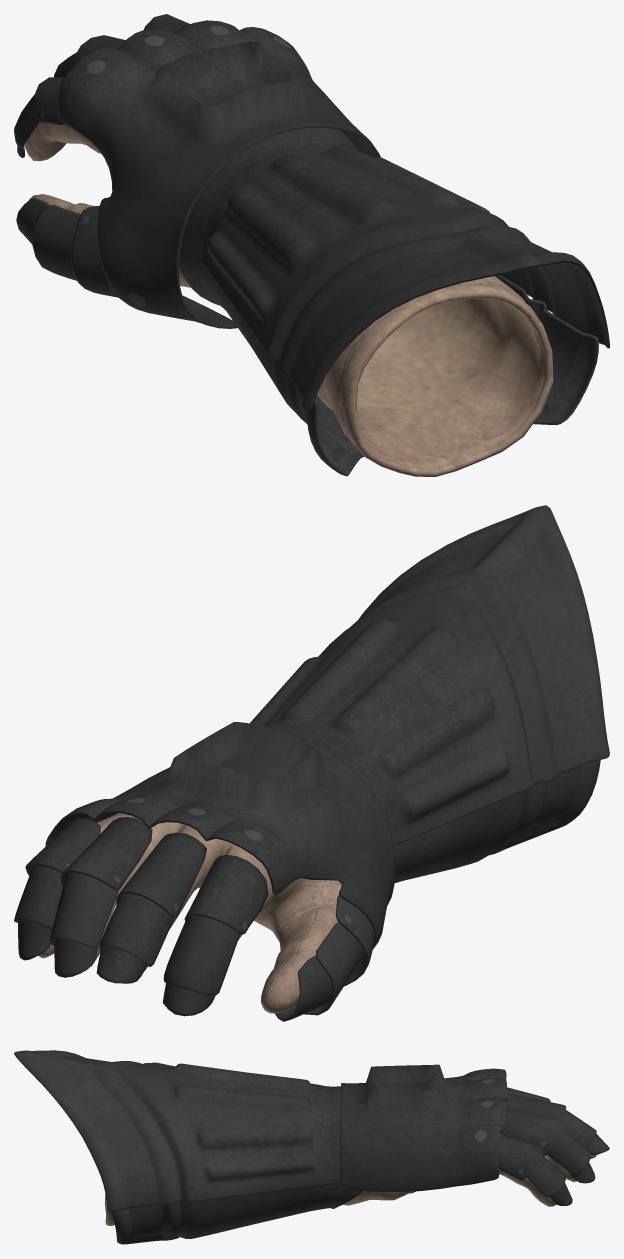
File: Gauntlet_v0.fbx
3 views of the same model, one above another, from view 1: azimuth 30°, elevation 25°; view 2: azimuth 150°, elevation 25°; view 3: azimuth 270°, elevation 25° (orthographic). The views are drawn at different scales.
Visible parts, largest first — view 1: 13597_Gauntlet_Armor_v_B_v1_l2; view 2: 13597_Gauntlet_Armor_v_B_v1_l2; view 3: 13597_Gauntlet_Armor_v_B_v1_l2.
Part boxes in pixels (bbox=[...]): 13597_Gauntlet_Armor_v_B_v1_l2: bbox=[14, 14, 609, 476]; 13597_Gauntlet_Armor_v_B_v1_l2: bbox=[14, 505, 609, 1021]; 13597_Gauntlet_Armor_v_B_v1_l2: bbox=[14, 1050, 609, 1244].
Bounding box in the file's own units: 727 × 651 × 1966.
